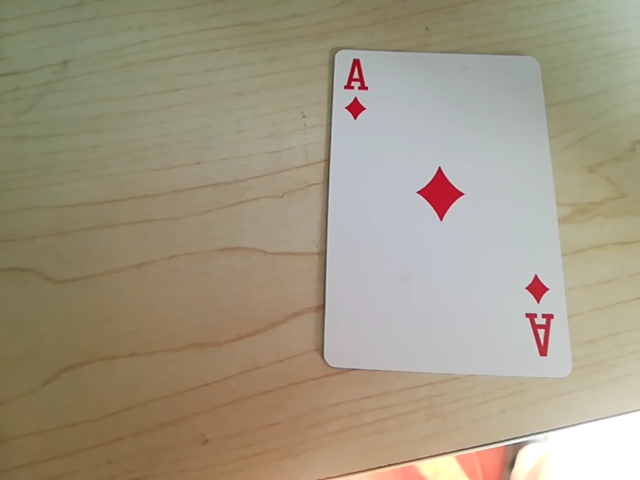fk a: (522, 285, 557, 361), (335, 56, 375, 121)
